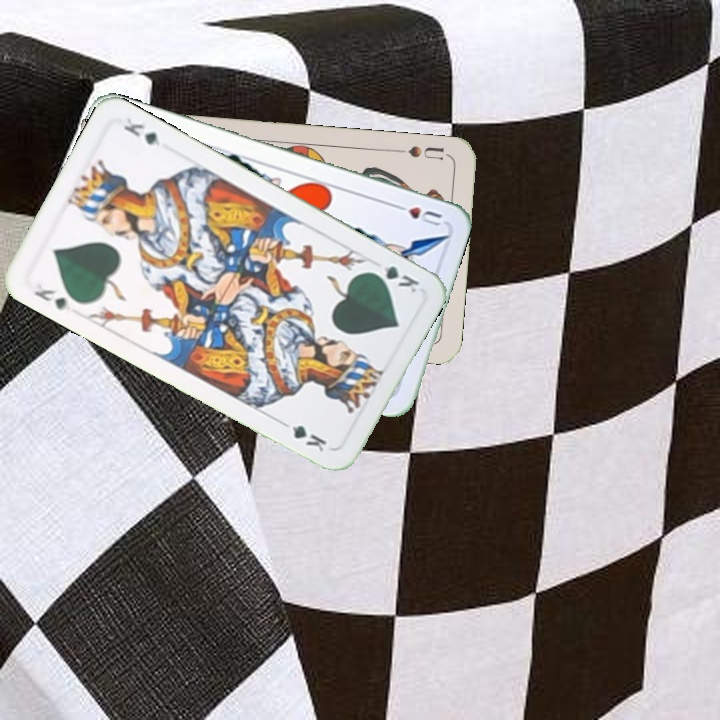GK: (365, 261, 422, 296), (30, 285, 73, 314)
HU: (388, 199, 445, 229)
SU: (392, 142, 446, 162)
